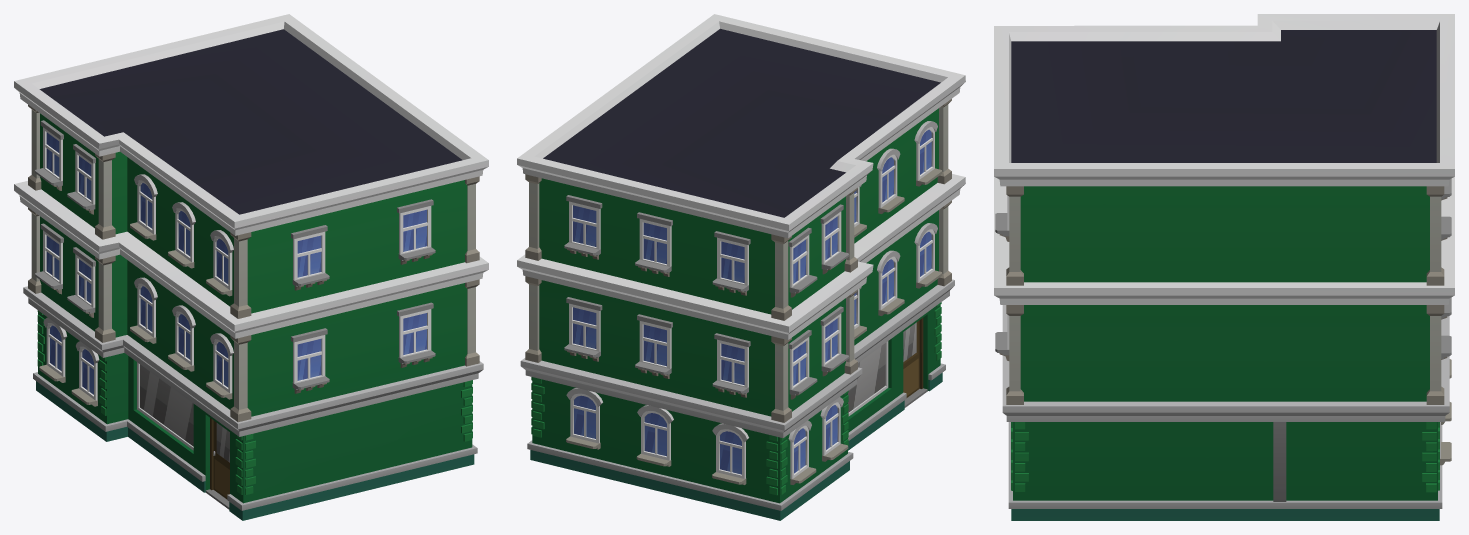
File: Building_1_3_D.fbx
3 renders of one model, left to right at view 1: azimuth 30°, elevation 25°; view 2: azimuth 150°, elevation 25°; view 3: azimuth 270°, elevation 25°, orthographic. The views are drawn at different scales.
Visible parts, largest first — view 1: Building_1_3_D; view 2: Building_1_3_D; view 3: Building_1_3_D.
Part boxes in pixels (x1,y1,x2,y2): Building_1_3_D: (14,14,488,520); Building_1_3_D: (517,14,965,520); Building_1_3_D: (994,14,1454,520).
Size of the model in its own units: 841 by 900 by 1057.
